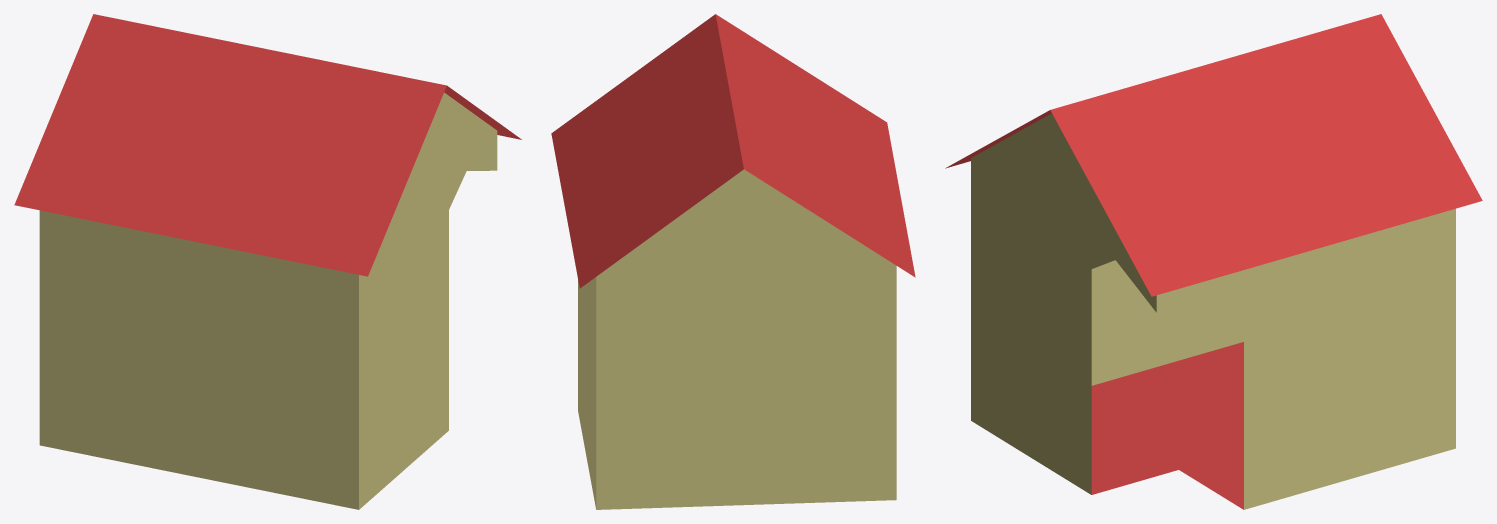
3 renders of one model, left to right at view 1: azimuth 30°, elevation 25°; view 2: azimuth 150°, elevation 25°; view 3: azimuth 270°, elevation 25°, orthographic. The views are drawn at different scales.
Size of the model in its own units: 13.67 by 13.9 by 10.65.
